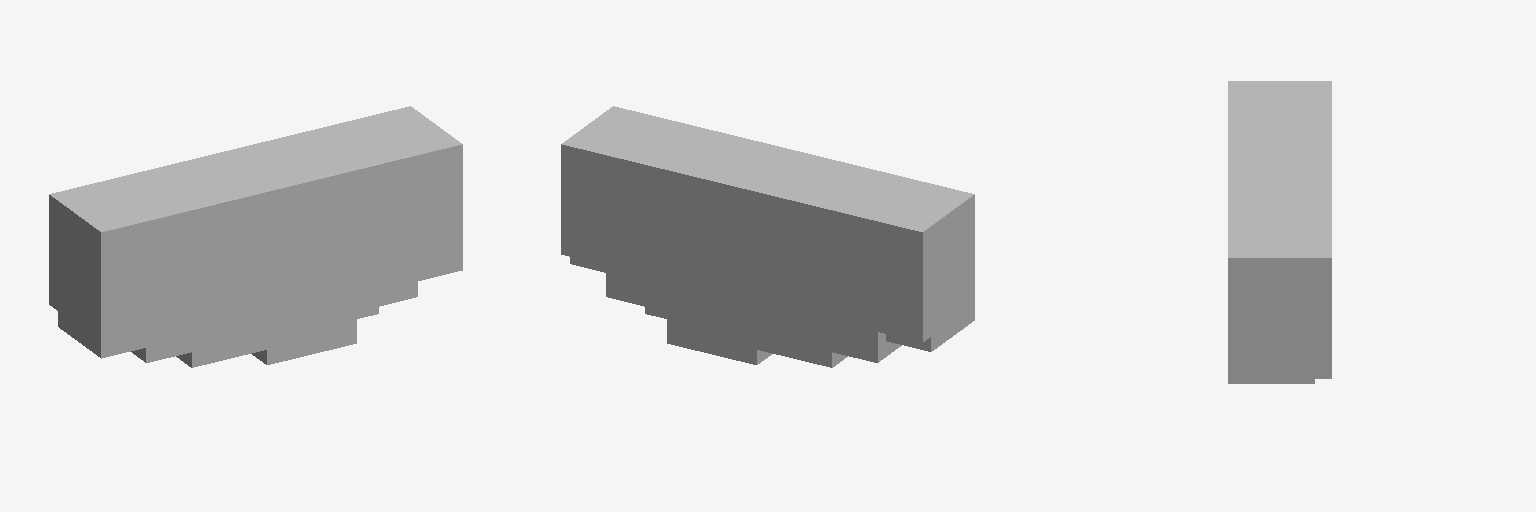
File: cliff-L7 24x12.obj
3 renders of one model, left to right at view 1: azimuth 30°, elevation 25°; view 2: azimuth 150°, elevation 25°; view 3: azimuth 270°, elevation 25°, orthographic.
Bounding box in the file's own units: 24 × 11 × 6.